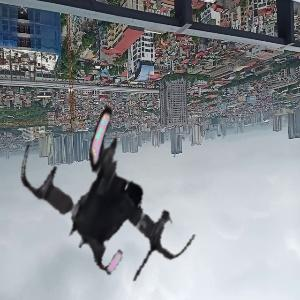drone: (15, 86, 219, 290)
